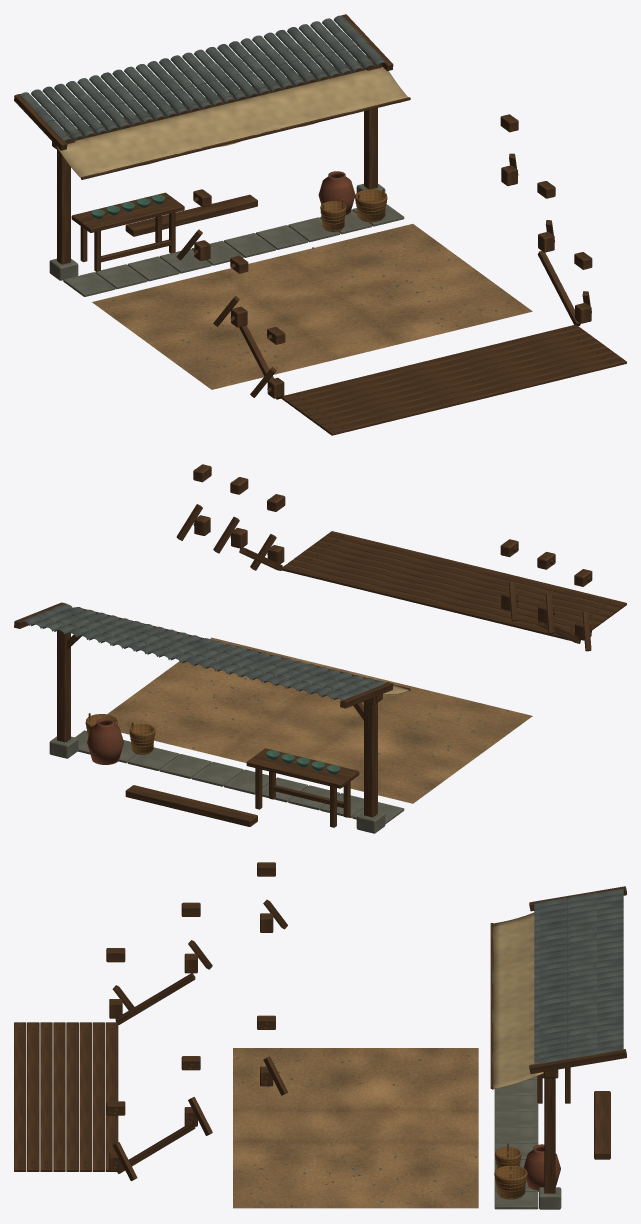
Rendered from closeup-kit.glb.
3 renders of one model, top to bottom at view 1: azimuth 30°, elevation 25°; view 2: azimuth 150°, elevation 25°; view 3: azimuth 270°, elevation 25°, orthographic. The views are drawn at different scales.
Parts seen in each view (by area): view 1: detail_market__V2 irregular dust and ruts, detail_bridge__V2 seasoned timber, detail_market__V2 fired grey tile, detail_market__V2 woven flax, detail_market__V2 seasoned timber, detail_market__V2 worn paving sandstone, detail_market__V2 split reed weave, detail_market__V2 thrown earthenware, detail_market__V2 celadon glaze; view 2: detail_market__V2 irregular dust and ruts, detail_bridge__V2 seasoned timber, detail_market__V2 fired grey tile, detail_market__V2 seasoned timber, detail_market__V2 worn paving sandstone, detail_market__V2 thrown earthenware, detail_market__V2 split reed weave, detail_market__V2 celadon glaze; view 3: detail_market__V2 irregular dust and ruts, detail_bridge__V2 seasoned timber, detail_market__V2 fired grey tile, detail_market__V2 woven flax, detail_market__V2 seasoned timber, detail_market__V2 worn paving sandstone, detail_market__V2 split reed weave, detail_market__V2 thrown earthenware.
Boxes of the visible parts, box(x1,y1,x2,y2) form: detail_market__V2 irregular dust and ruts: box(92, 224, 532, 389); detail_bridge__V2 seasoned timber: box(176, 114, 626, 435); detail_market__V2 fired grey tile: box(20, 15, 385, 141); detail_market__V2 woven flax: box(56, 66, 407, 177); detail_market__V2 seasoned timber: box(14, 14, 410, 271); detail_market__V2 worn paving sandstone: box(49, 183, 509, 381); detail_market__V2 split reed weave: box(320, 188, 387, 231); detail_market__V2 thrown earthenware: box(318, 171, 355, 215); detail_market__V2 celadon glaze: box(91, 194, 165, 219); detail_market__V2 irregular dust and ruts: box(107, 637, 532, 803); detail_bridge__V2 seasoned timber: box(176, 464, 626, 651); detail_market__V2 fired grey tile: box(20, 604, 385, 700); detail_market__V2 seasoned timber: box(14, 602, 410, 827); detail_market__V2 worn paving sandstone: box(49, 655, 511, 833); detail_market__V2 thrown earthenware: box(87, 718, 123, 764); detail_market__V2 split reed weave: box(85, 713, 155, 754); detail_market__V2 celadon glaze: box(265, 750, 340, 774); detail_market__V2 irregular dust and ruts: box(233, 1048, 478, 1208); detail_bridge__V2 seasoned timber: box(14, 862, 287, 1180); detail_market__V2 fired grey tile: box(534, 888, 623, 1064); detail_market__V2 woven flax: box(492, 912, 543, 1089); detail_market__V2 seasoned timber: box(490, 886, 626, 1193); detail_market__V2 worn paving sandstone: box(236, 1048, 561, 1209); detail_market__V2 split reed weave: box(494, 1143, 527, 1199); detail_market__V2 thrown earthenware: box(523, 1144, 560, 1191).
Bounding box in the file's own units: 7.22 × 3.73 × 10.99.
8 materials, 8 textured.
